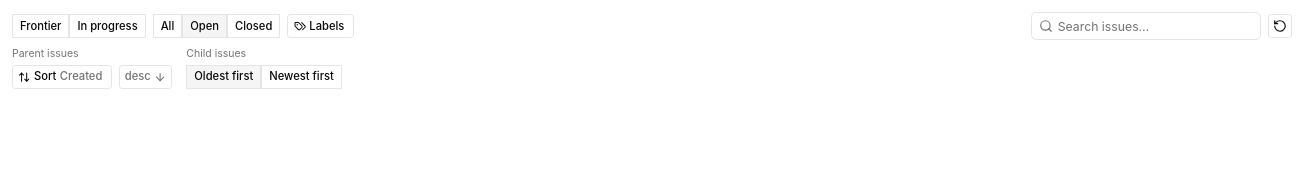
Test case: IssueFilterBar › reset button › shows the reset copy when the button is focused
The image size is (1304, 172).
Expected: the text "Reset the filters and sort order to the default frontier view." is not shown
Focus the button named "reset" at point(1280, 26), box [1268, 14, 1292, 38]
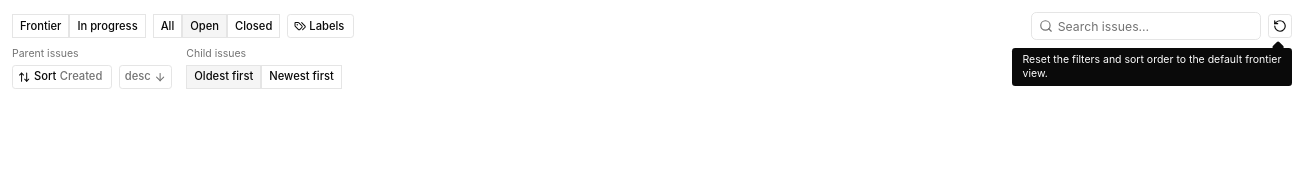
Now the text "Reset the filters and sort order to the default frontier view." is shown, box [1012, 48, 1292, 86]
